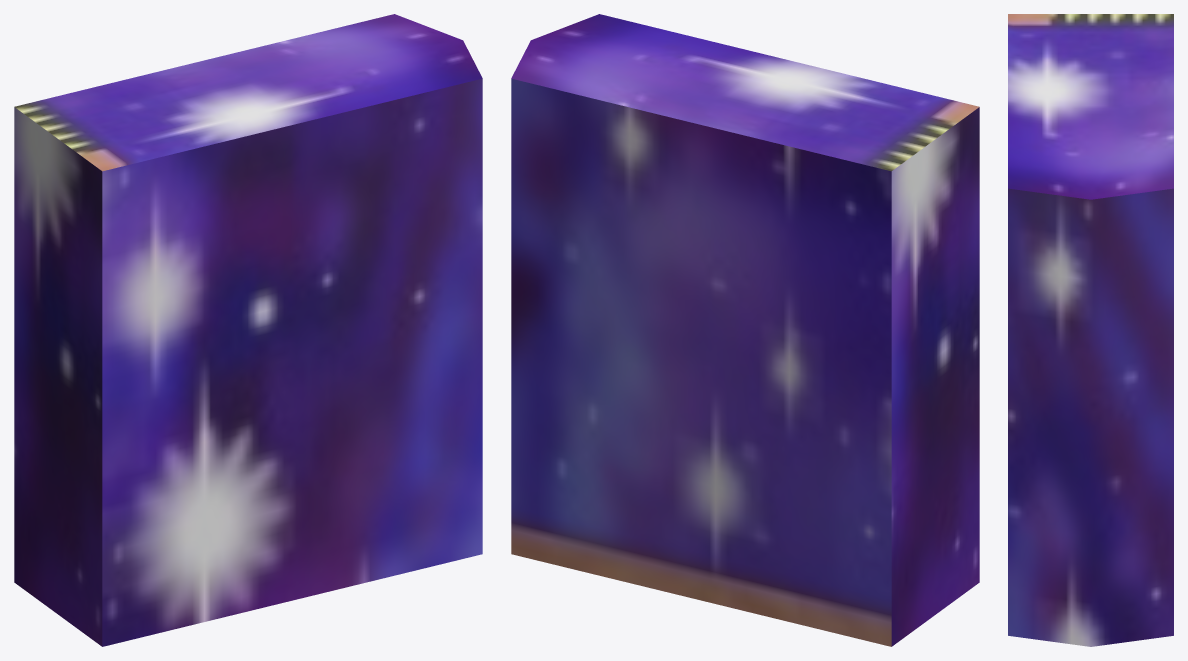
File: magic_box.glb
3 views of the same model, side by side, from view 1: azimuth 30°, elevation 25°; view 2: azimuth 150°, elevation 25°; view 3: azimuth 270°, elevation 25° (orthographic). The views are drawn at different scales.
Visible parts, largest first — view 1: magicbox; view 2: magicbox; view 3: magicbox.
Boxes of the visible parts, box(x1,y1,x2,y2) form: magicbox: box(14, 14, 482, 646); magicbox: box(511, 14, 979, 646); magicbox: box(1008, 14, 1173, 646).
Size of the model in its own units: 3.29 by 3.7 by 1.24.
Materials: 1 (1 with a texture image).
